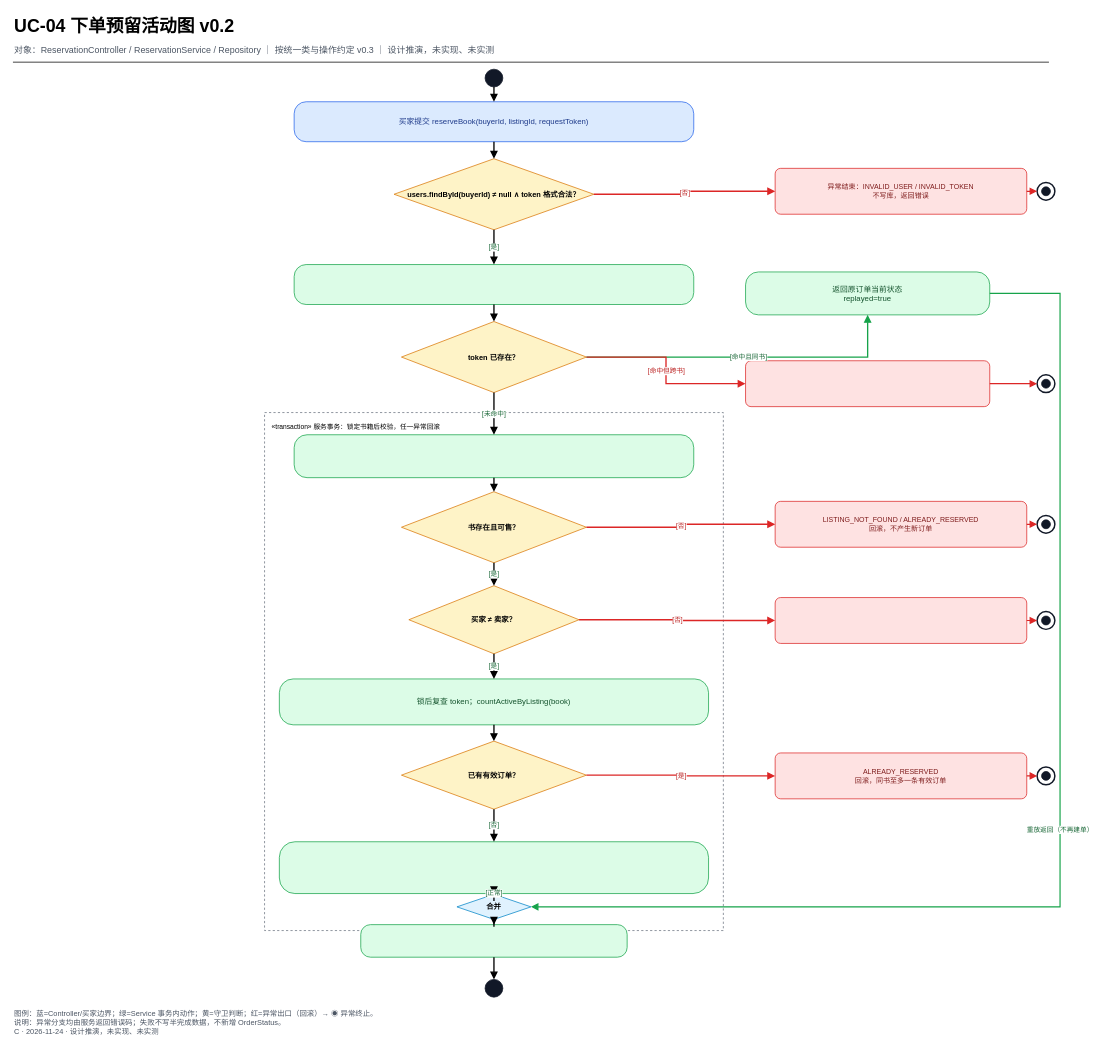
Image size: 1106x1052. Some labels were removed from this diagram. Here are the shapes that lost their labels. From the top down, the centre of each, then its label:
At [493,284]: "查询同买家 + token：findByBuyerAndToken".
At [867,383]: "拒绝 TOKEN_TARGET_MISMATCH 回滚，不能把 A 书订单当 B 书成功".
At [493,456]: "开启事务；lockById(listingId) 锁定书籍".
At [900,620]: "SELF_RESERVATION 回滚，禁止预留自己发布的书".
At [494,867]: "insert(order)；updateAvailability(已预留) commit；返回 RESERVED".
At [493,940]: "返回 RESULT （RESERVED 或原订单状态）".
